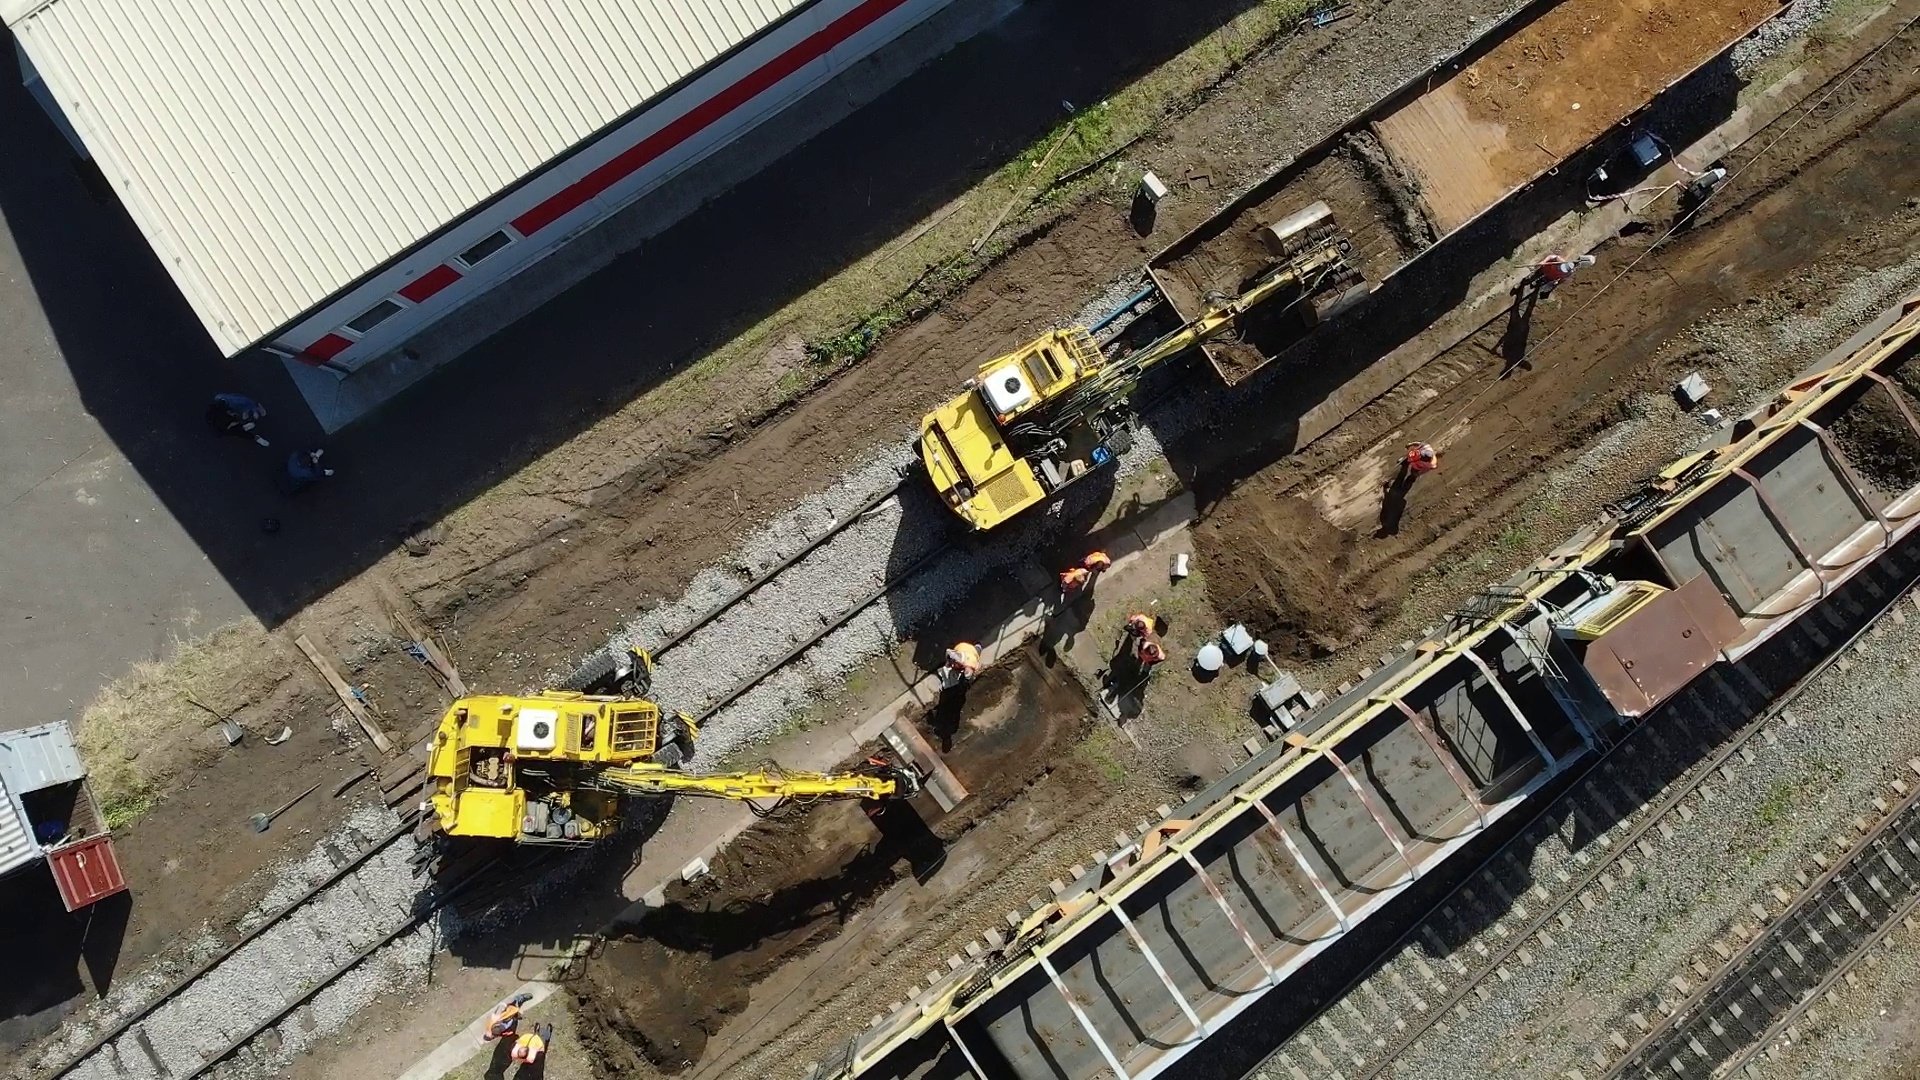kjtv: (911, 328, 1191, 527), (421, 699, 746, 847)
